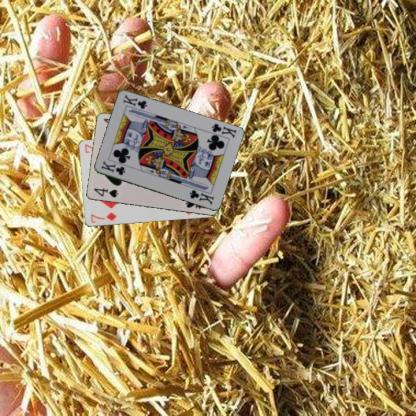4s: (91, 185, 119, 199)
7d: (88, 210, 118, 224)
Kc: (208, 121, 238, 139), (99, 158, 126, 177)
